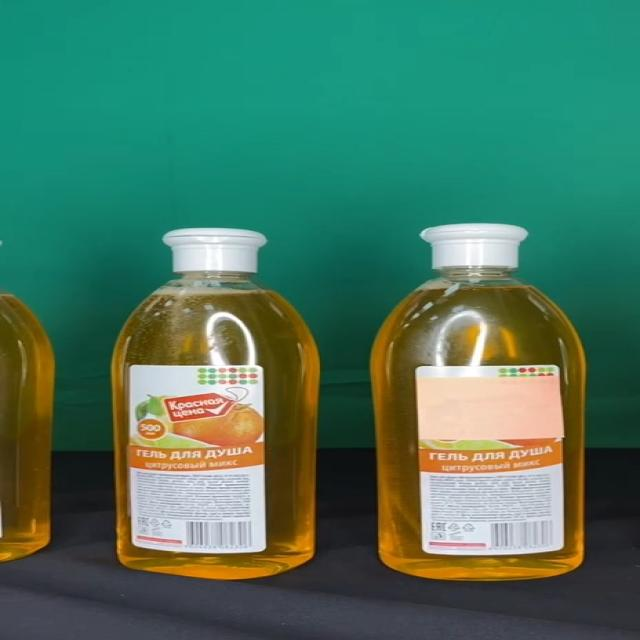Bottle: (369, 225, 587, 581), (111, 228, 322, 580)
Cap: (420, 224, 529, 268), (162, 228, 268, 272)
